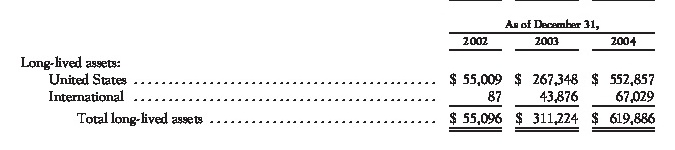table: (0, 0, 675, 150)
